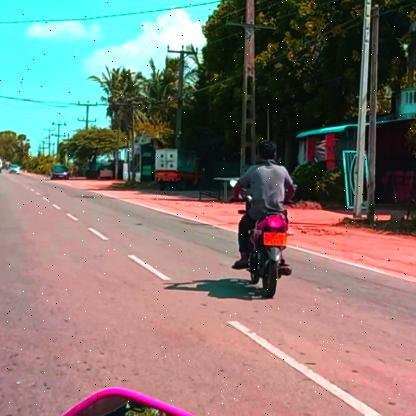motorcycle: (229, 209, 295, 303)
